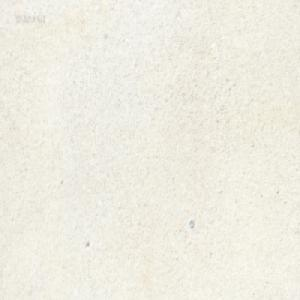Washer: (189, 218, 194, 228)
